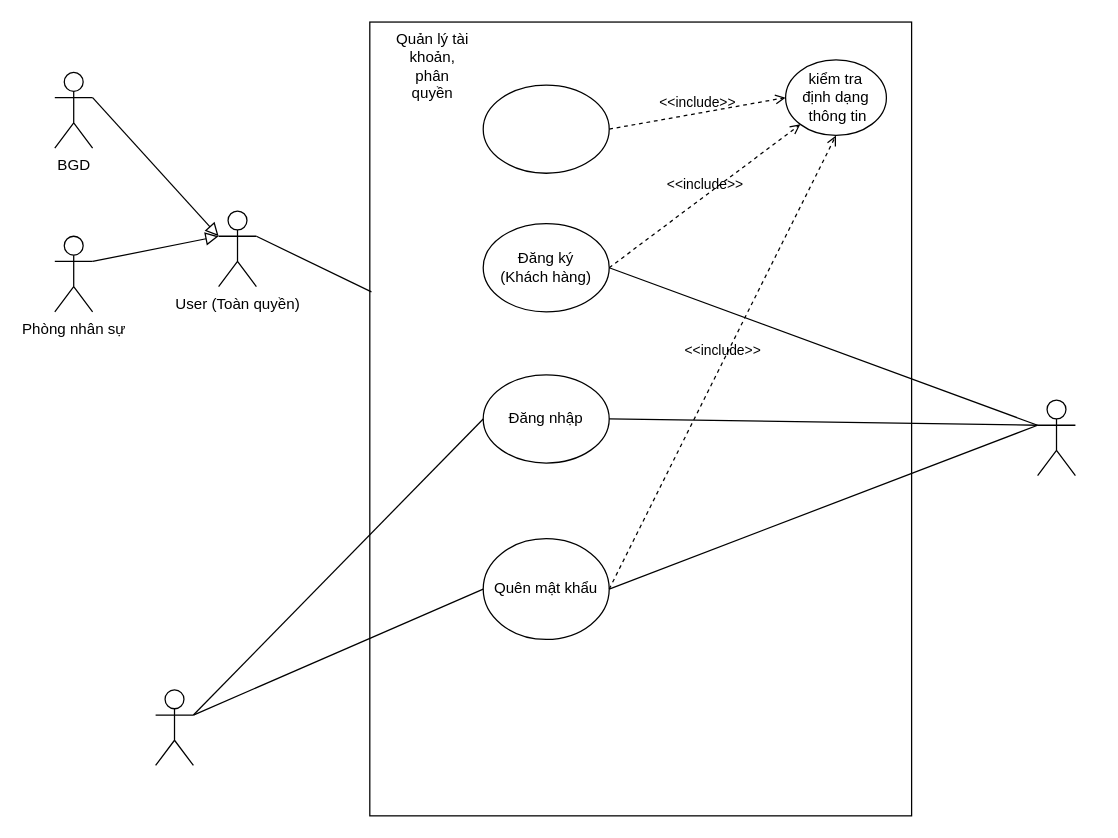
Some shapes in this 1118 by 838 pixel diagram are drawn without their labels. Each missing label, with the centre of its shape:
"Khách hàng" belongs at point 1055,437.
"User" belongs at point 173,727.
"Đăng ký (cho nhân viên)" belongs at point 545,128.
